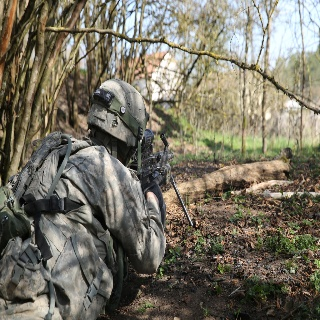rifle: (128, 127, 198, 226)
